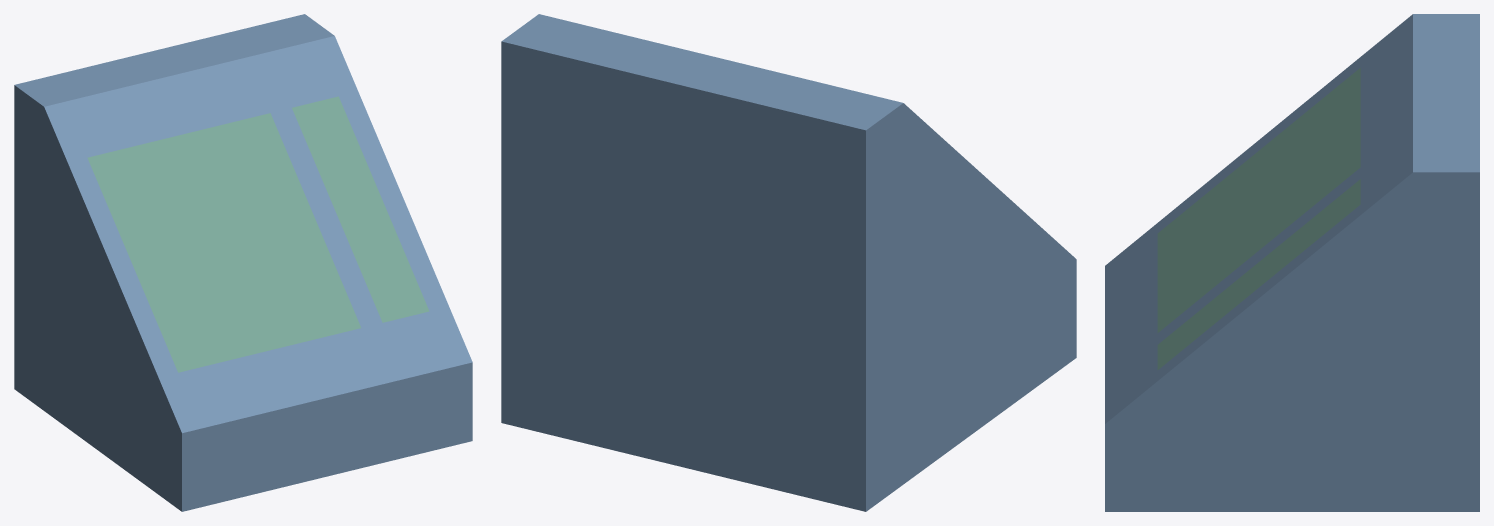
The model's file is computer-keyboard.glb.
The picture shows the model from 3 angles, left to right: view 1: azimuth 30°, elevation 25°; view 2: azimuth 150°, elevation 25°; view 3: azimuth 270°, elevation 25°; orthographic projection. The views are drawn at different scales.
Bounding box in the file's own units: 1 × 1 × 1.
